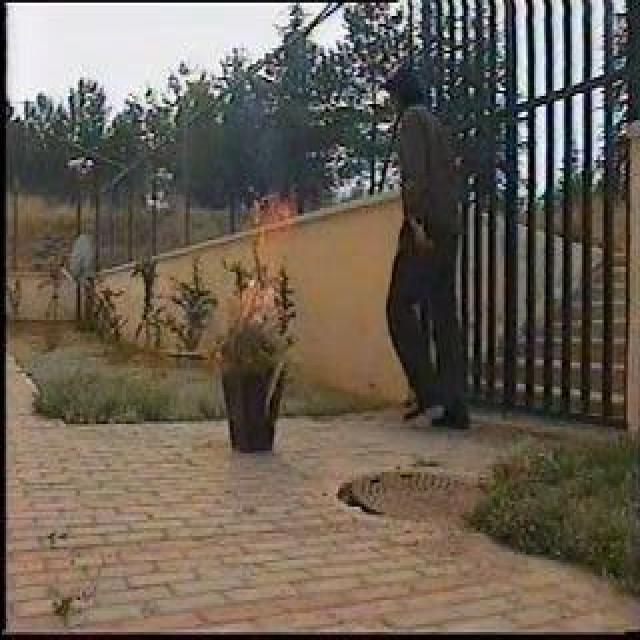Fire: (249, 208, 283, 328)
